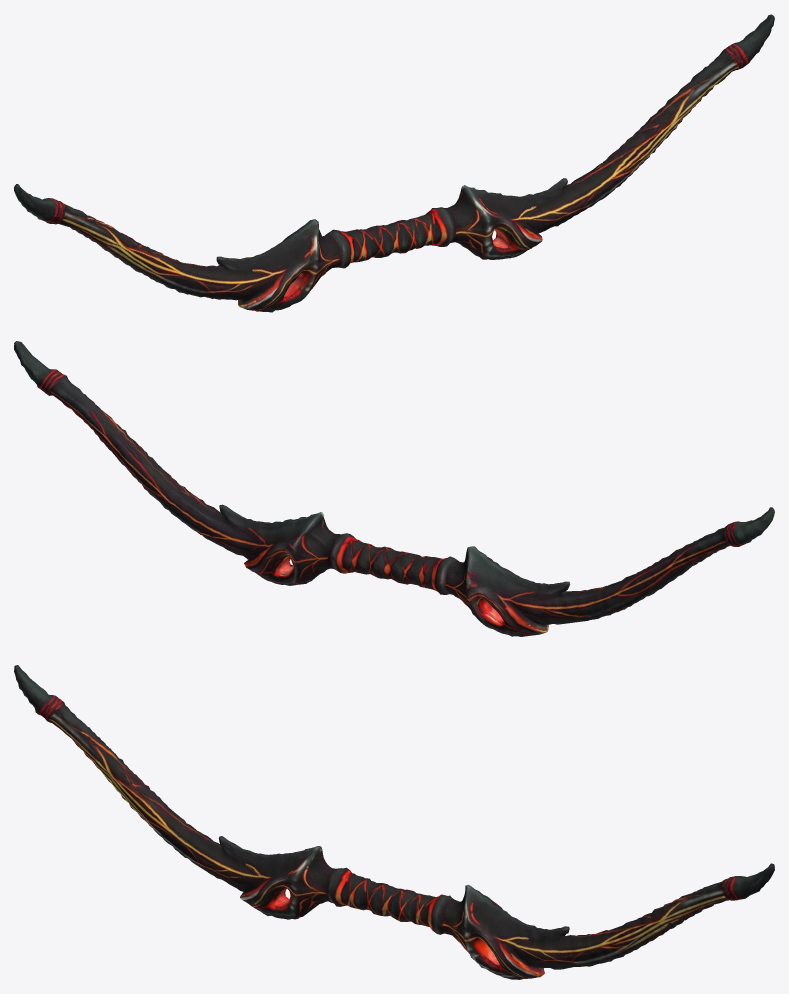
File: EmberveinLongbow.glb
The picture shows the model from 3 angles, top to bottom: view 1: azimuth 30°, elevation 25°; view 2: azimuth 150°, elevation 25°; view 3: azimuth 330°, elevation 25°; orthographic projection.
Visible parts, largest first — view 1: Mesh_0; view 2: Mesh_0; view 3: Mesh_0.
Part boxes in pixels (<box>): Mesh_0: <box>14,14,774,312</box>; Mesh_0: <box>14,341,774,636</box>; Mesh_0: <box>14,665,774,979</box>.
Bounding box in the file's own units: 1.17 × 0.287 × 0.0748.
1 material, 1 textured.
